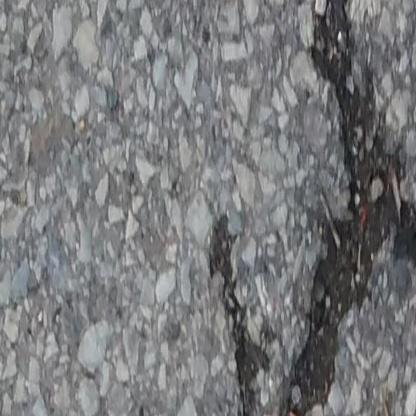Cracks: (271, 0, 416, 416), (205, 209, 269, 416)
